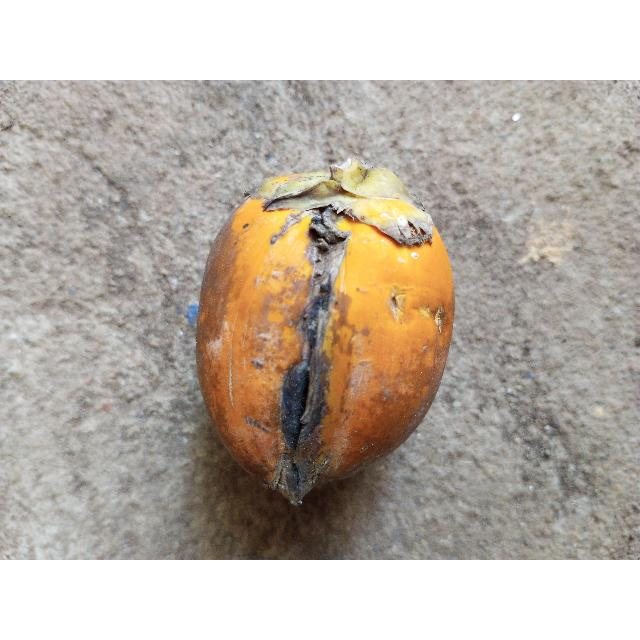damaged: (194, 161, 456, 507)
